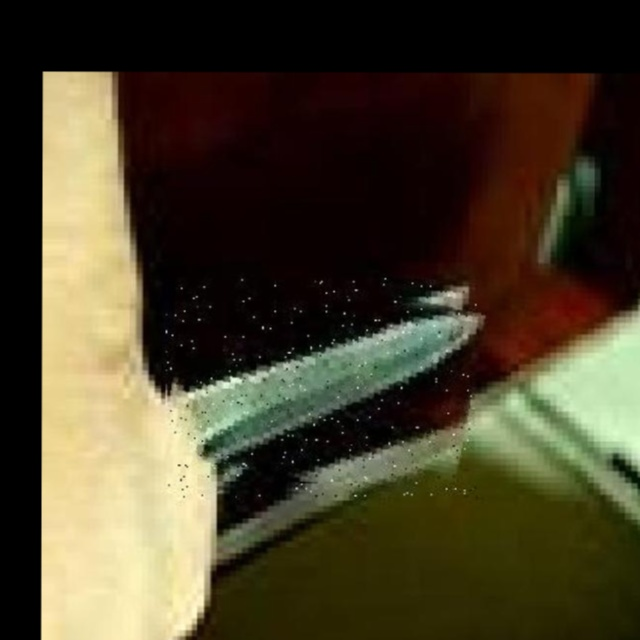Sharp-Object: (165, 275, 479, 498)
